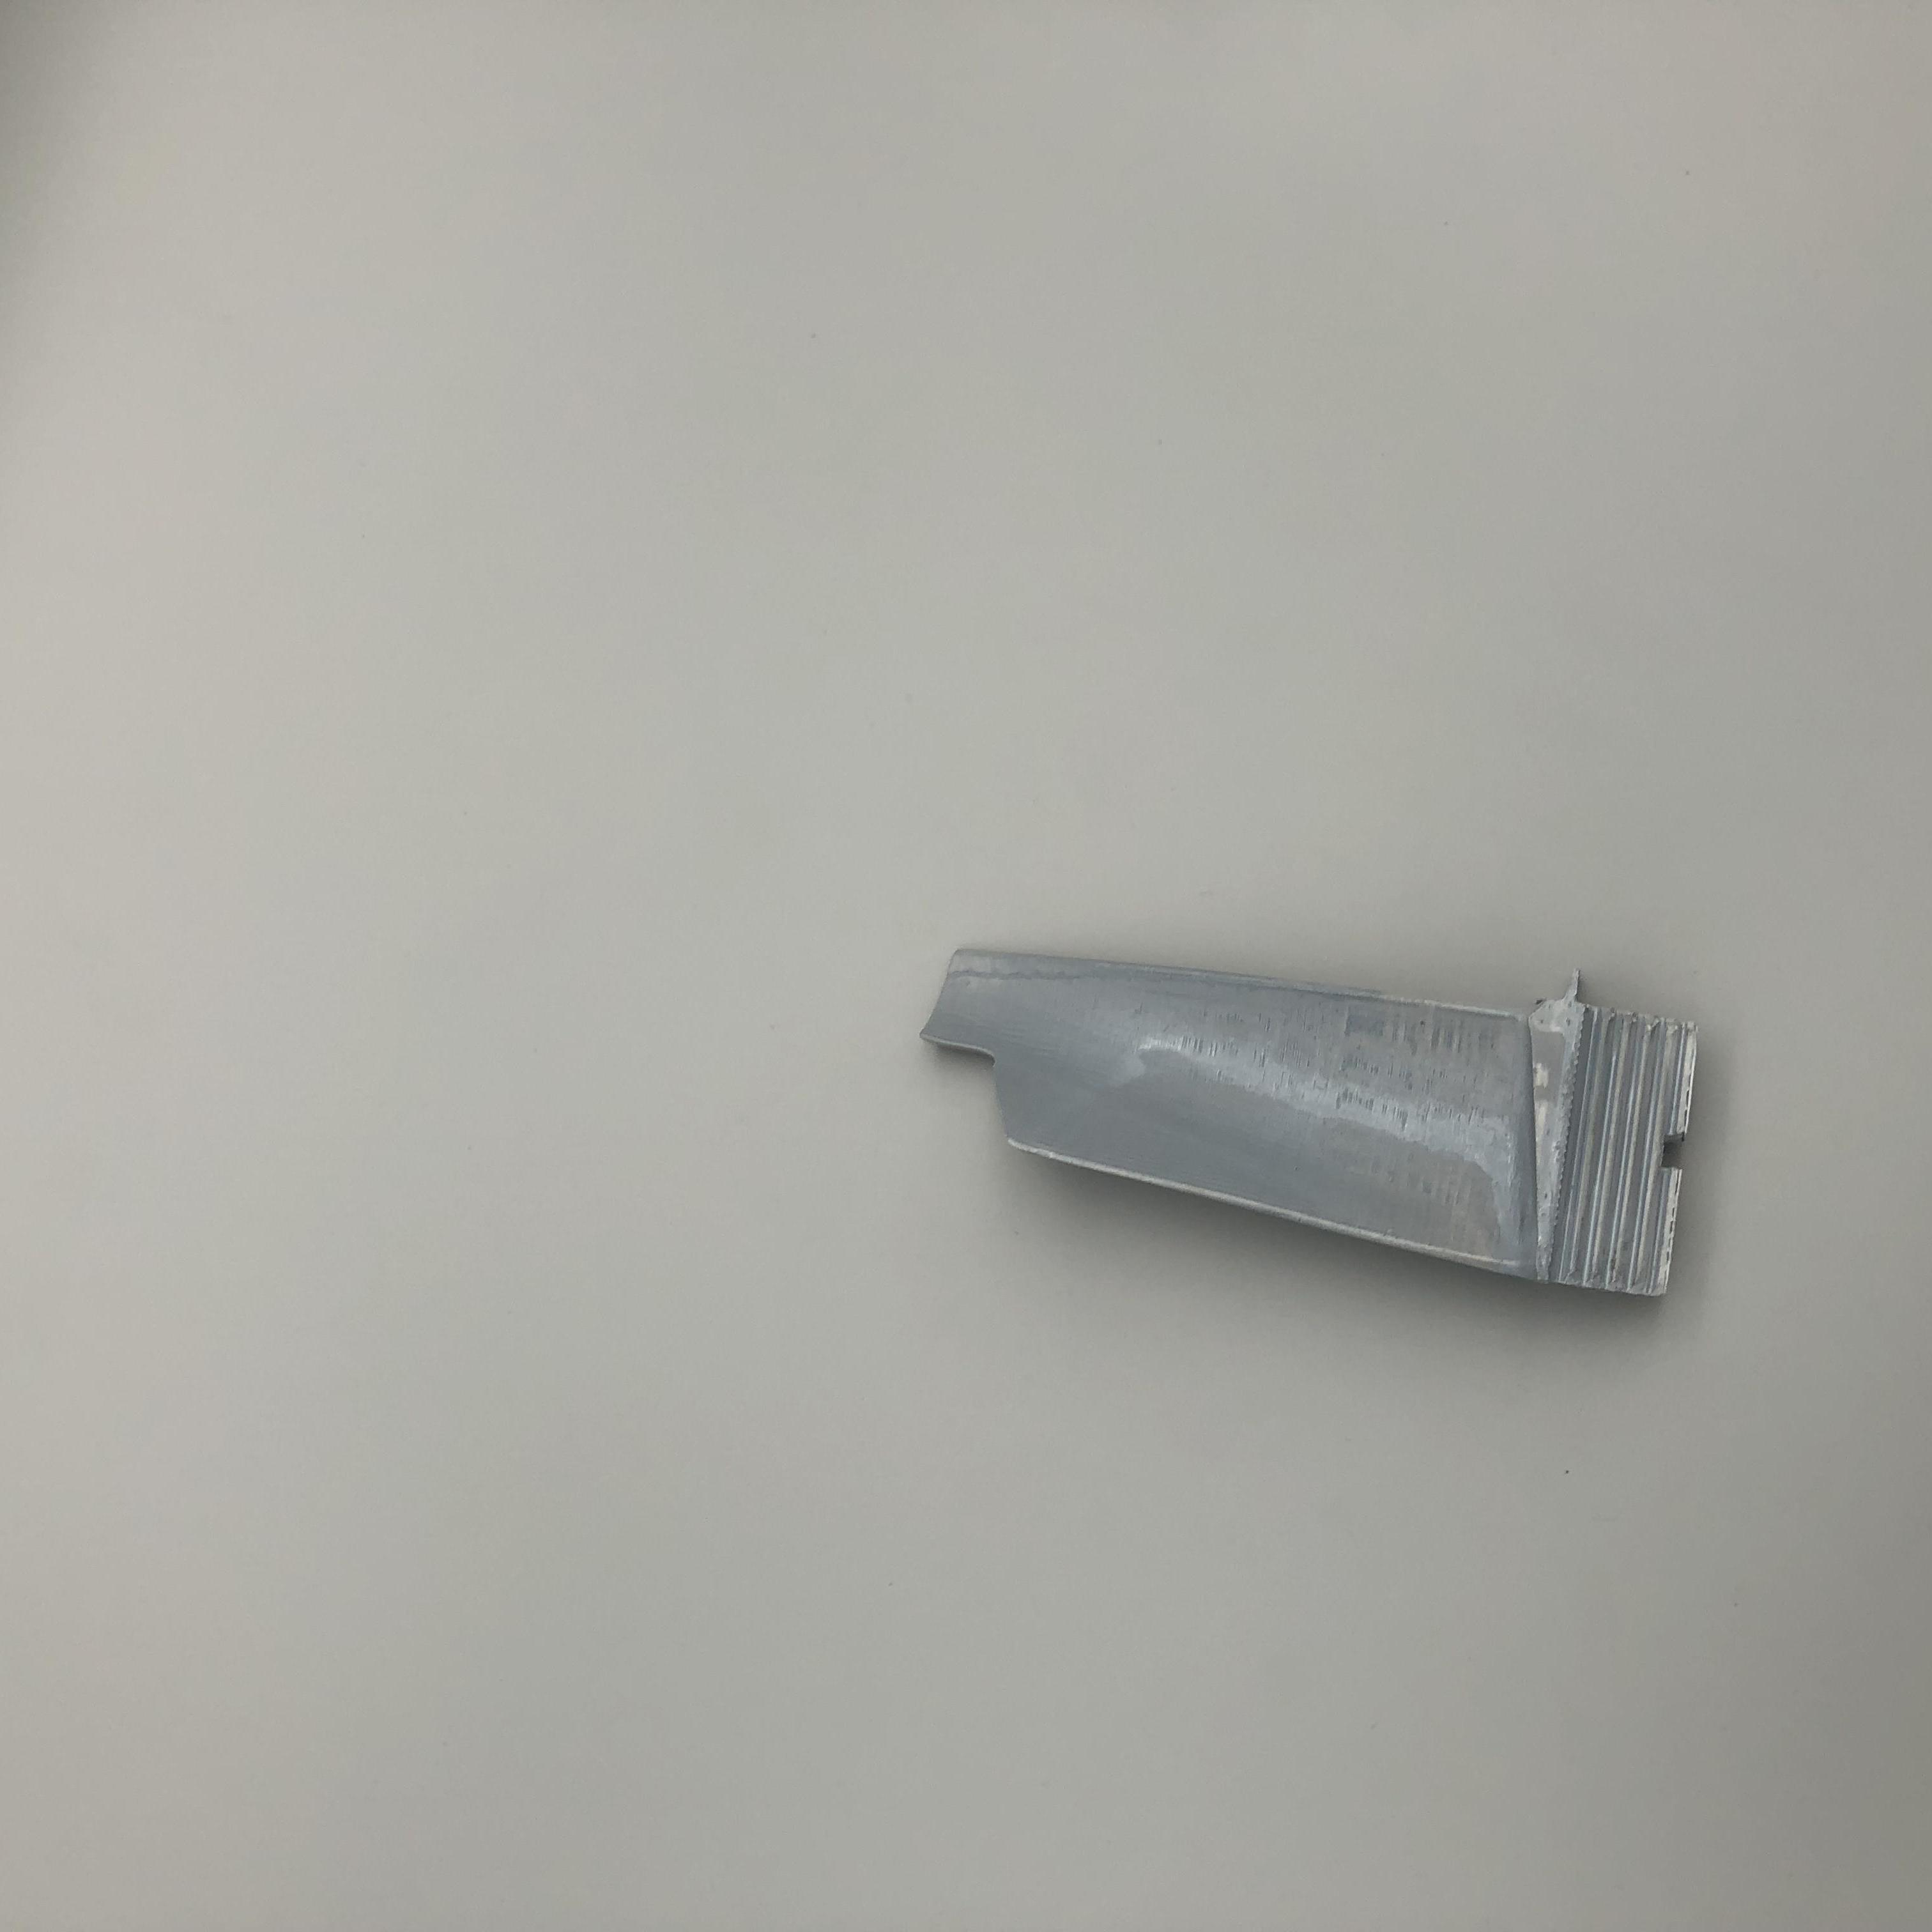fracture: (915, 1033, 1051, 1143)
